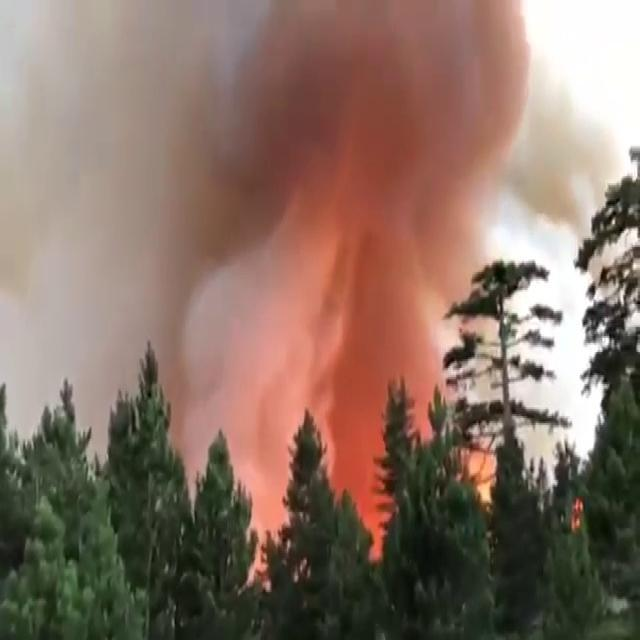Smoke: (138, 46, 467, 347), (327, 370, 512, 536)
